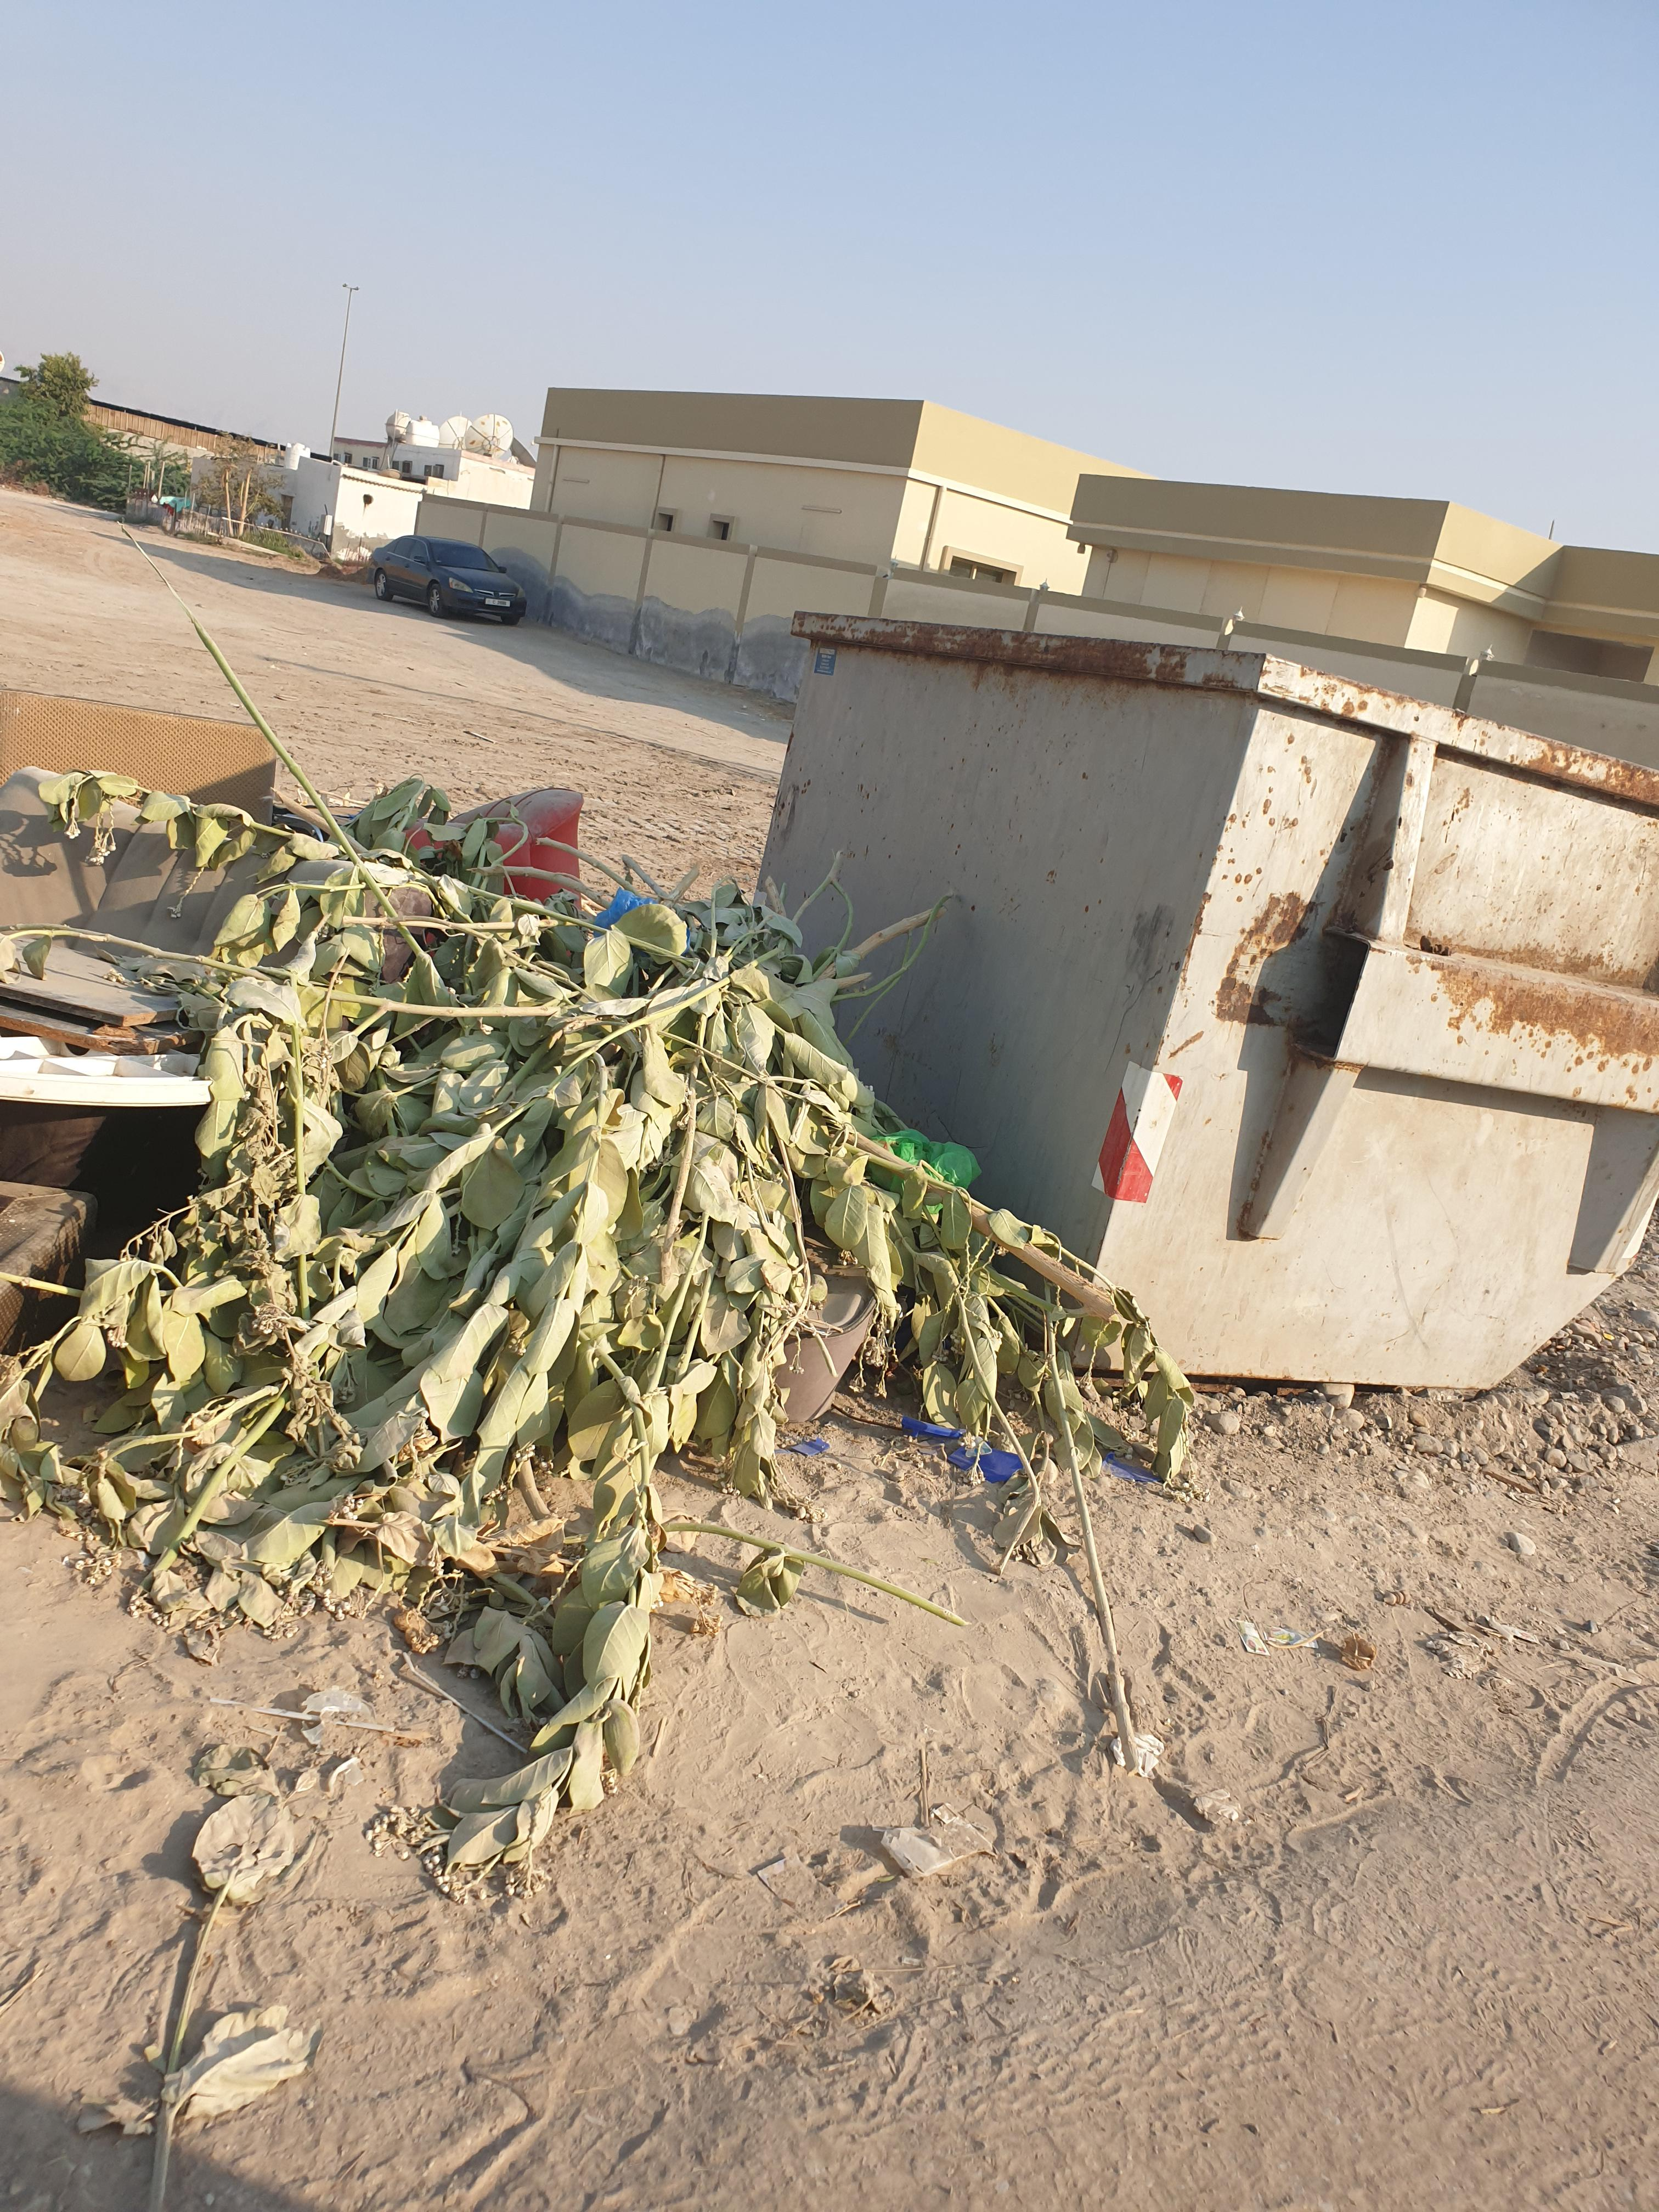fallen_trees: (91, 643, 1009, 1662), (108, 902, 1066, 1771)
uncollected_waste: (2, 592, 350, 862)
